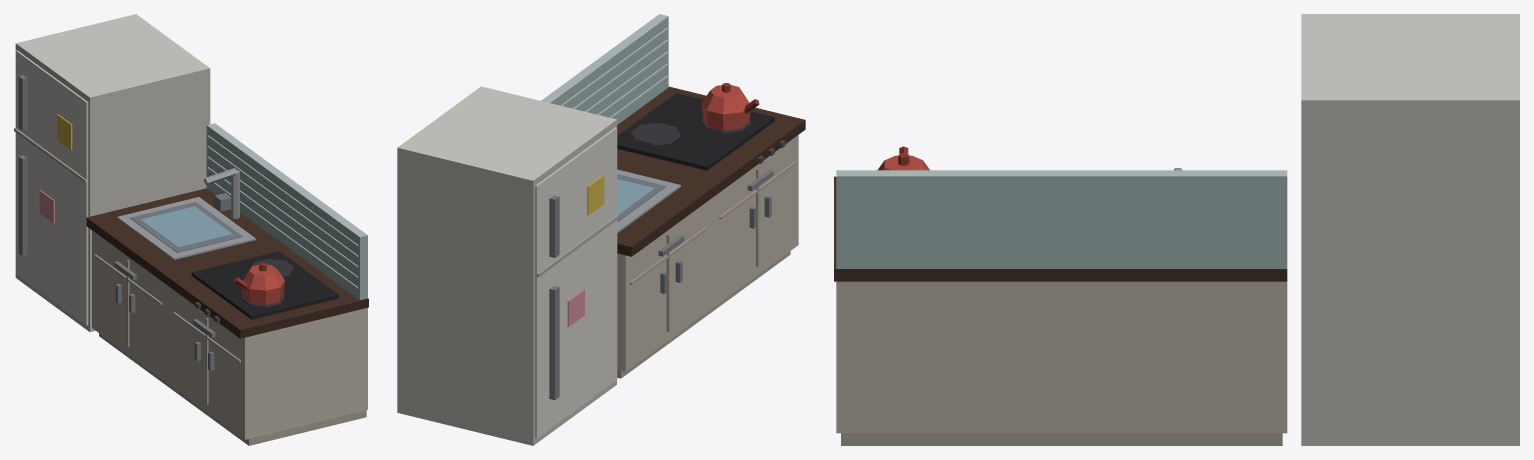
The model's file is kitchen_counter.fbx.
3 views of the same model, side by side, from view 1: azimuth 30°, elevation 25°; view 2: azimuth 150°, elevation 25°; view 3: azimuth 270°, elevation 25° (orthographic). The views are drawn at different scales.
Parts seen in each view (by area): view 1: kitchen_counter; view 2: kitchen_counter; view 3: kitchen_counter.
Part boxes in pixels (box(x1,y1,x2,y2)): kitchen_counter: box(14, 14, 368, 445); kitchen_counter: box(397, 14, 805, 445); kitchen_counter: box(834, 14, 1519, 445).
Size of the model in its own units: 0.48 by 0.82 by 1.48.
